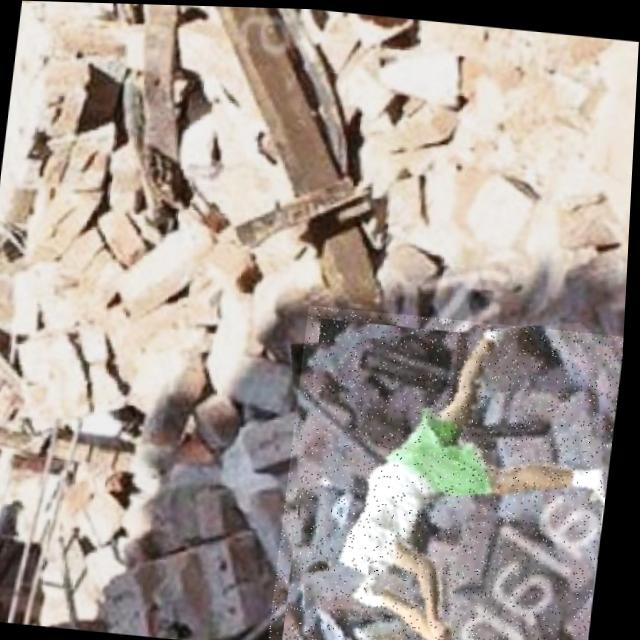Person in Rubble: (274, 301, 628, 640)
